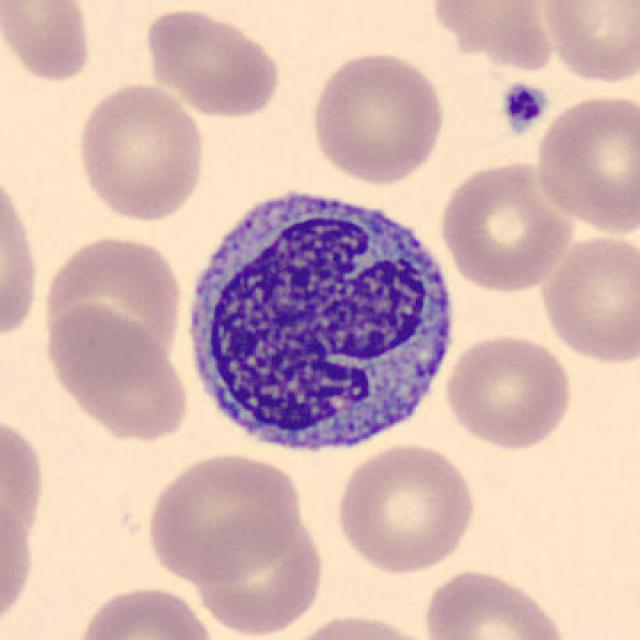Monocyte: (174, 175, 464, 467)
Platelets: (498, 79, 549, 136)
RBC: (38, 231, 188, 383), (142, 450, 306, 586), (37, 305, 192, 446), (331, 439, 480, 577), (73, 79, 210, 226), (306, 47, 448, 187), (437, 157, 576, 294), (192, 510, 329, 638), (138, 3, 284, 120), (441, 332, 576, 452), (532, 90, 638, 236), (535, 231, 638, 367), (420, 566, 574, 640), (537, 0, 640, 86), (441, 0, 564, 71), (73, 582, 217, 640), (0, 0, 96, 86), (0, 164, 43, 346), (0, 409, 50, 564), (0, 496, 39, 636), (279, 610, 441, 640)
